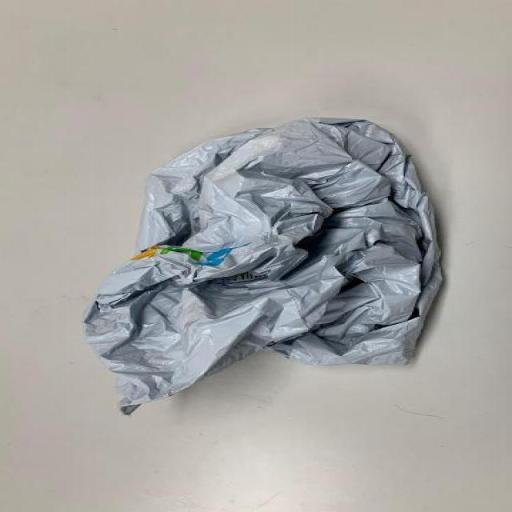plastic-bag: (78, 117, 455, 424)
